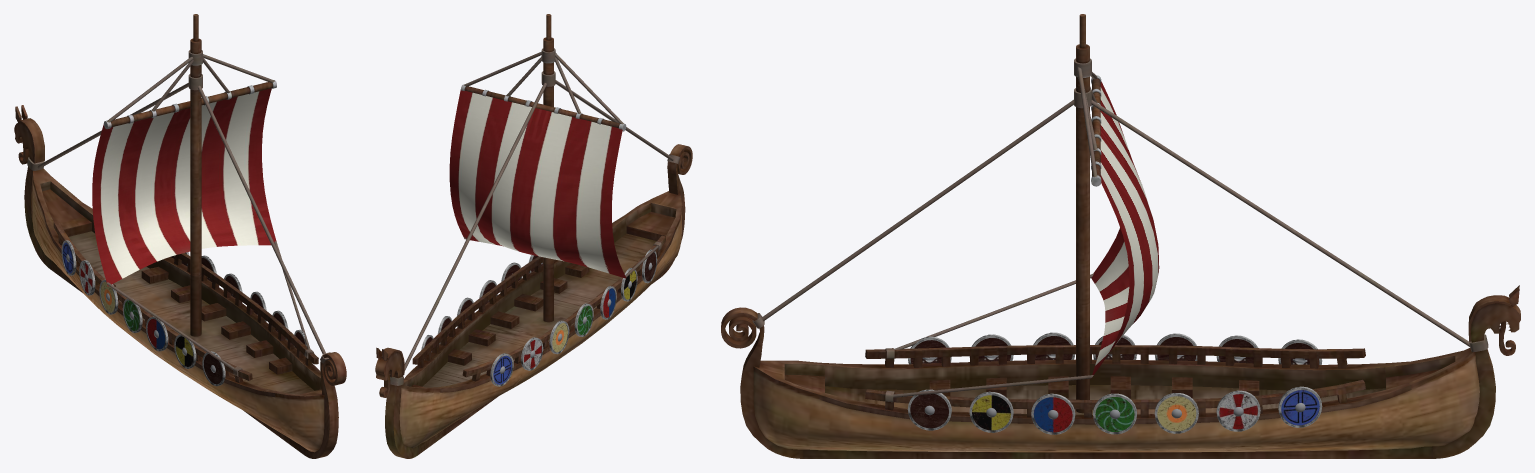
Rendered from boat.glb.
3 views of the same model, side by side, from view 1: azimuth 30°, elevation 25°; view 2: azimuth 150°, elevation 25°; view 3: azimuth 270°, elevation 25° (orthographic). The views are drawn at different scales.
Visible parts, largest first — view 1: _Ship, _Sail, _Shields; view 2: _Ship, _Sail, _Shields; view 3: _Ship, _Shields, _Sail.
Part boxes in pixels (<box>): _Ship: <box>14,14,346,458</box>; _Sail: <box>92,88,276,286</box>; _Shields: <box>61,240,306,386</box>; _Ship: <box>375,14,692,458</box>; _Sail: <box>449,90,626,278</box>; _Shields: <box>421,249,657,386</box>; _Ship: <box>721,14,1520,458</box>; _Shields: <box>907,332,1322,434</box>; _Sail: <box>1091,81,1159,378</box>.
Bounding box in the file's own units: 0.5666 × 1.14 × 1.87.
3 materials, 3 textured.
